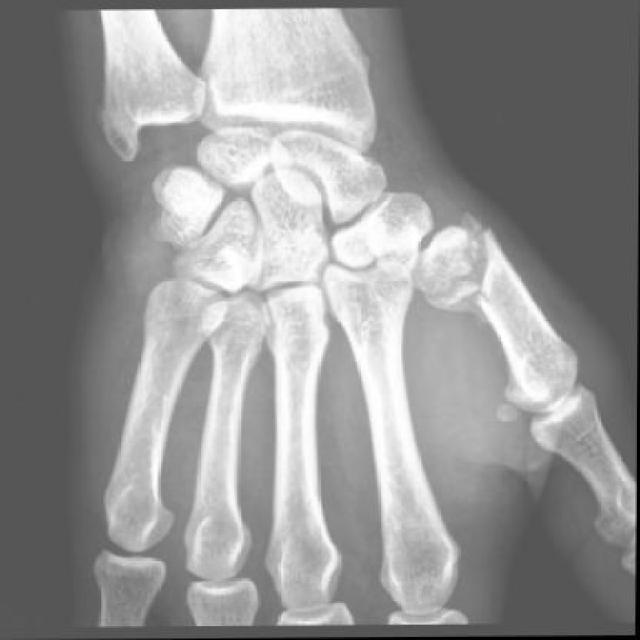Fracture: (421, 217, 508, 325)
